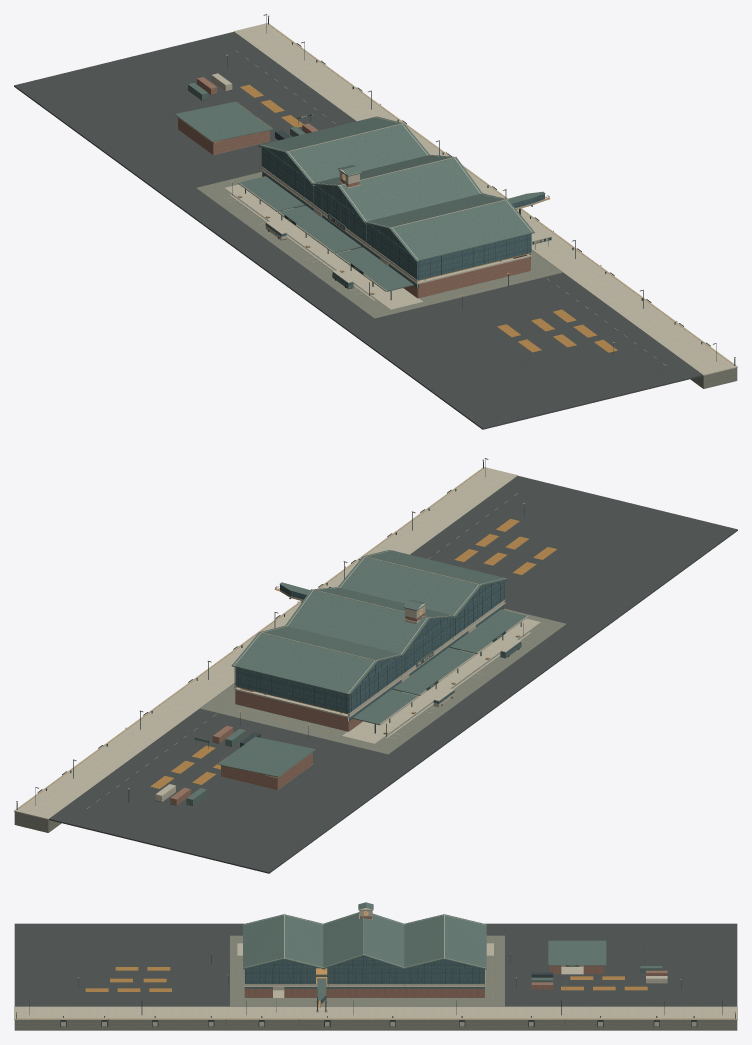
The model's file is port-meridian.glb.
3 renders of one model, top to bottom at view 1: azimuth 30°, elevation 25°; view 2: azimuth 150°, elevation 25°; view 3: azimuth 270°, elevation 25°, orthographic. The views are drawn at different scales.
Visible parts, largest first — view 1: street_and_forecourt, terminal_roof, berth_01_quay, departure_hall, service_apron, passenger_terminal, lot; view 2: street_and_forecourt, terminal_roof, berth_01_quay, departure_hall, service_apron, passenger_terminal, lot; view 3: street_and_forecourt, berth_01_quay, terminal_roof, departure_hall, service_apron, passenger_terminal, lot, fixed_passenger_link.
Part boxes in pixels (x1,y1,x2,y2): street_and_forecourt: [14, 32, 702, 429]; terminal_roof: [258, 116, 534, 282]; berth_01_quay: [234, 14, 737, 388]; departure_hall: [261, 147, 531, 282]; service_apron: [174, 84, 617, 352]; passenger_terminal: [261, 169, 532, 298]; lot: [187, 54, 614, 355]; street_and_forecourt: [49, 476, 737, 873]; terminal_roof: [231, 550, 508, 715]; berth_01_quay: [14, 458, 517, 832]; departure_hall: [235, 580, 504, 716]; service_apron: [150, 519, 556, 790]; passenger_terminal: [234, 602, 505, 731]; lot: [128, 503, 525, 806]; street_and_forecourt: [14, 923, 737, 1006]; berth_01_quay: [14, 999, 737, 1030]; terminal_roof: [243, 902, 486, 985]; departure_hall: [244, 968, 484, 985]; service_apron: [85, 940, 647, 991]; passenger_terminal: [244, 916, 485, 997]; lot: [78, 953, 681, 1011]; fixed_passenger_link: [316, 978, 327, 1012].
Size of the model in its own units: 126 by 38.75 by 387.
12 materials, 12 textured.
